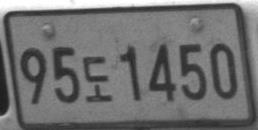0: (209, 42, 238, 100)
1: (116, 46, 145, 101)
4: (149, 44, 177, 100)
5: (178, 44, 207, 100), (53, 46, 80, 104)
9: (18, 46, 47, 104)
도: (82, 55, 112, 103)
